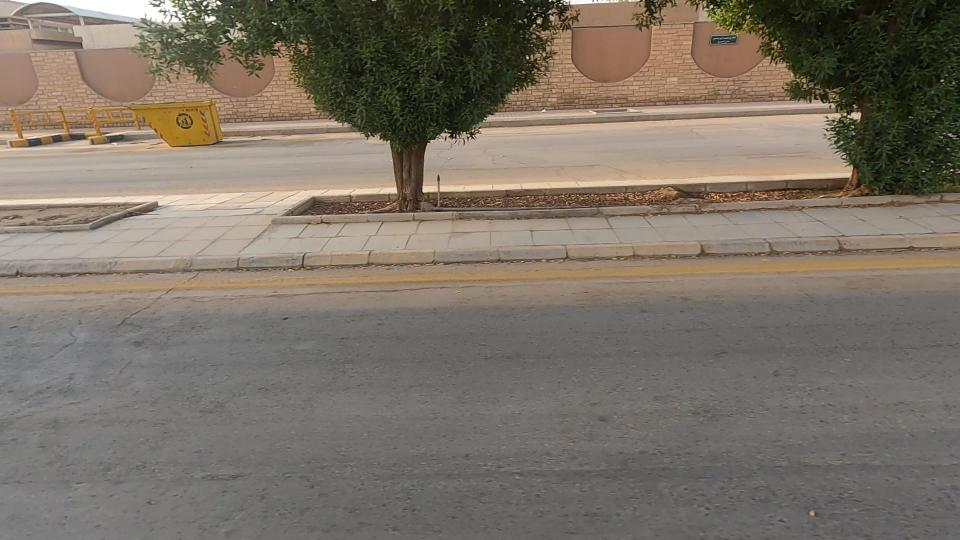GARBAGE: (68, 72, 300, 194)
